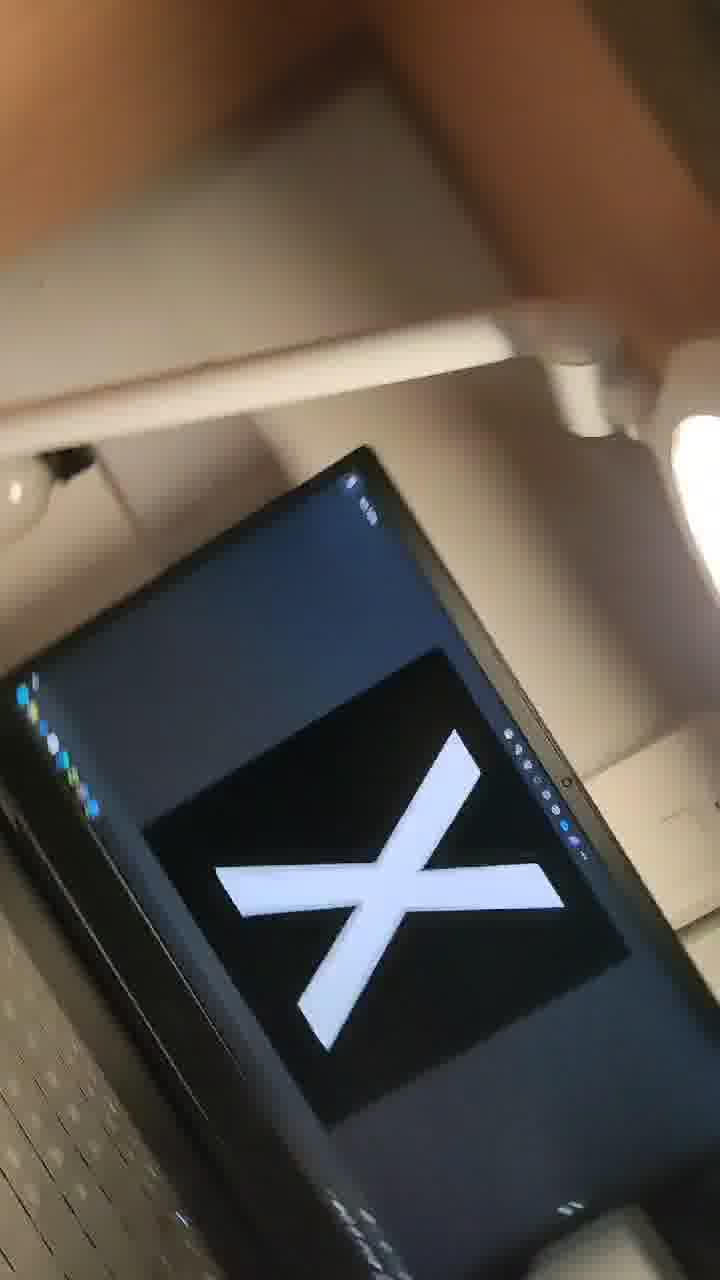X: (215, 639, 616, 1084)
